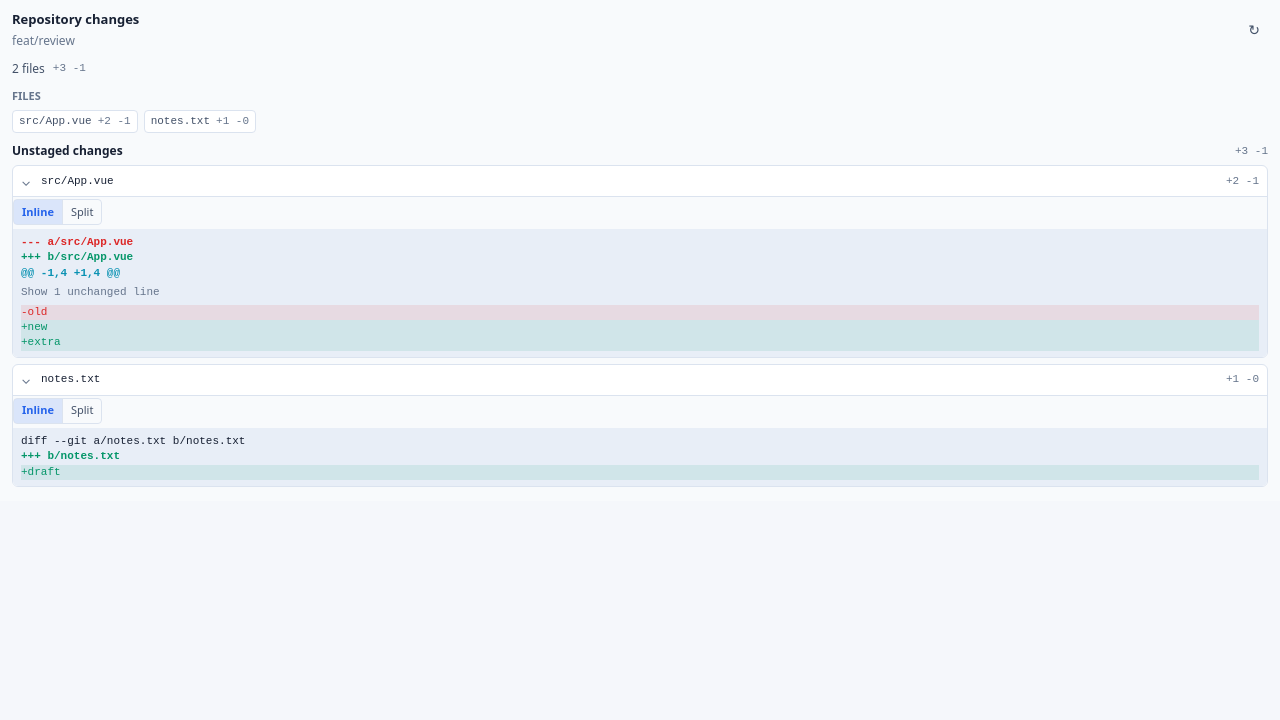
Scenario: GitReviewSidebarPanel › renders file count, line stats, collapsible file diffs, and collapsed context
The width and height of the screenshot is (1280, 720).
Expected: the element with test id "git-review-summary" shows "2 files", [12, 60, 45, 76]
Expected: the element with test id "git-review-summary" shows "+3 -1", [53, 62, 86, 74]
What coordinates should you click on to do the following:
click the 1st button with test id "diff-view-split"
I would click on:
 (82, 212)
Its box is [63, 200, 102, 224].
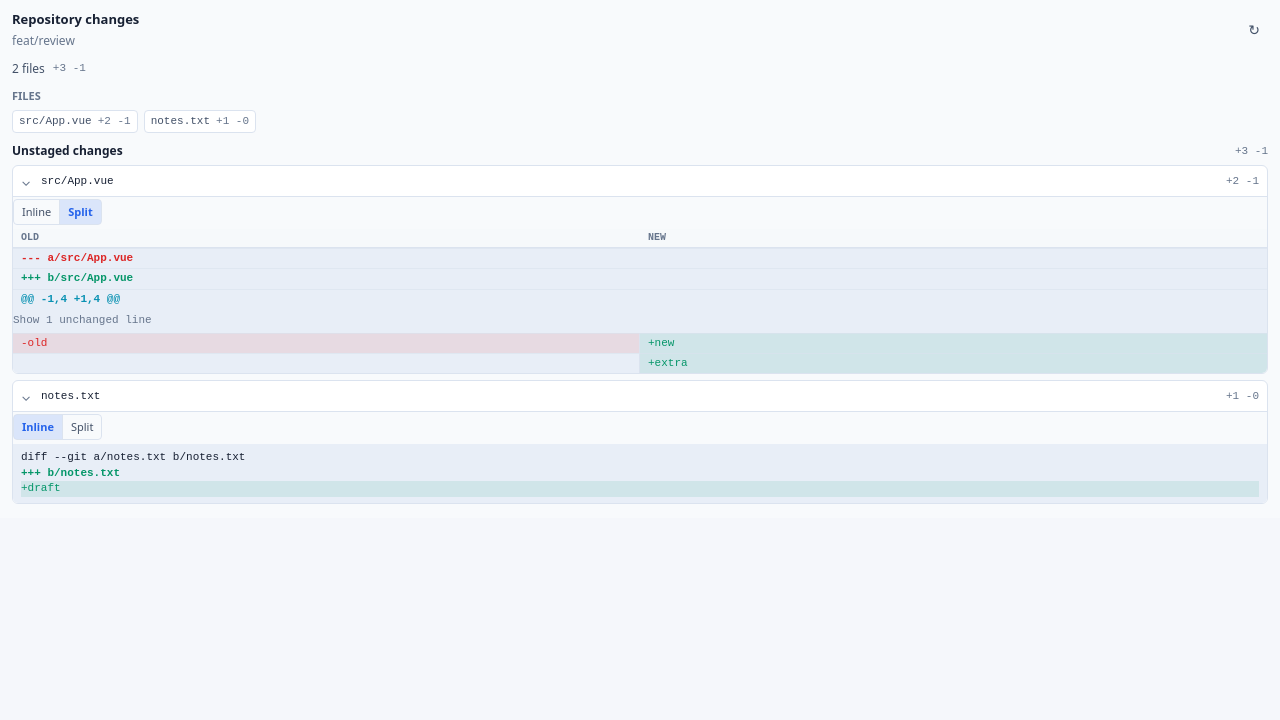
Now the 1st button with test id "diff-view-split" is pressed, box [60, 200, 101, 224]
What coordinates should you click on to do the following:
click the button with test id "diff-collapsed-context"
I would click on:
 (82, 320)
Its box is [13, 311, 1267, 331].
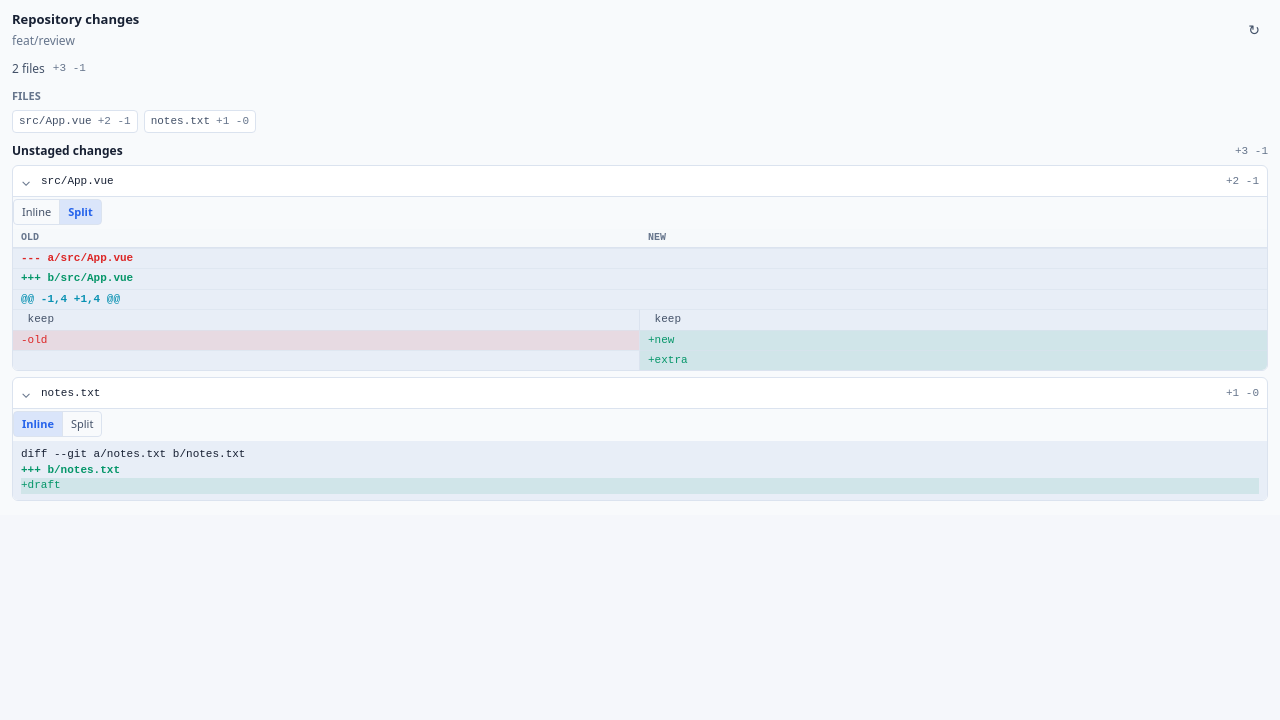
Now the text "keep" is shown, box [13, 309, 640, 330]
What coordinates should you click on to do the following:
click the button with test id "git-review-file-toggle" showing "⌄ src/App.vue +2 -1"
I would click on:
 (77, 181)
Its box is [13, 166, 1267, 196].
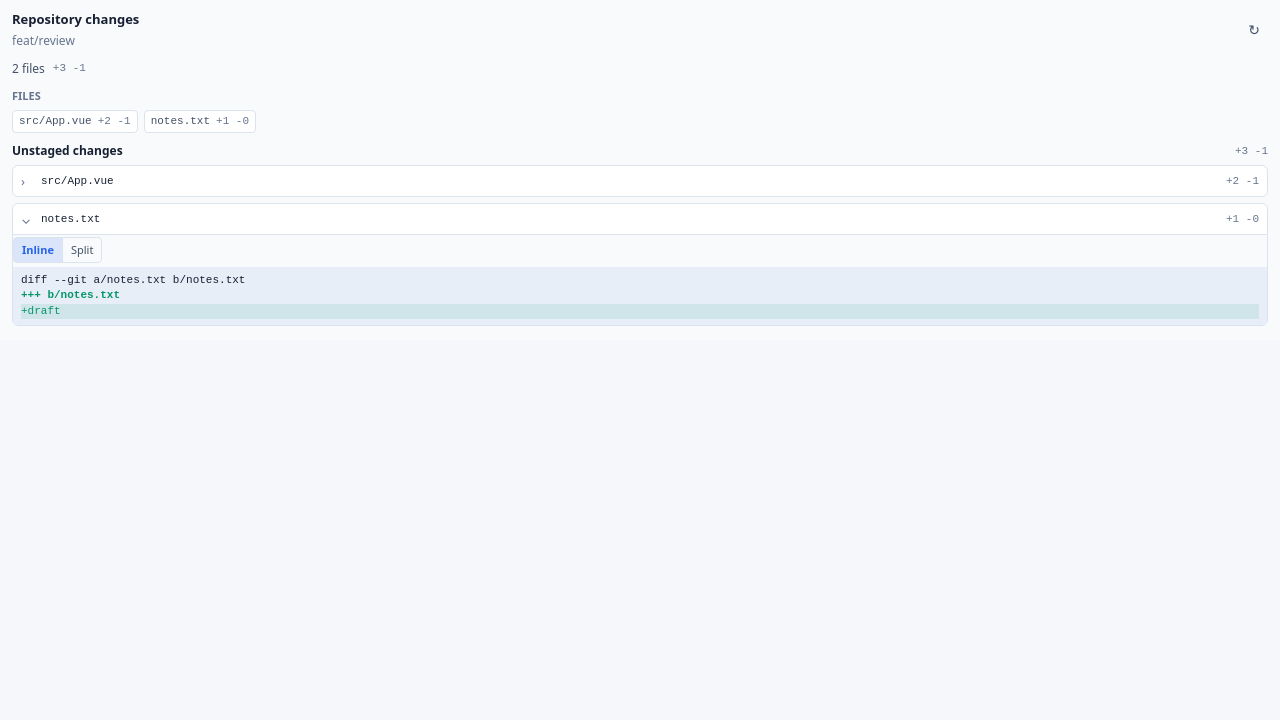
What coordinates should you click on to do the following:
click the button with test id "git-review-file-toggle" showing "› src/App.vue +2 -1"
I would click on:
 (77, 181)
Its box is [13, 166, 1267, 196].
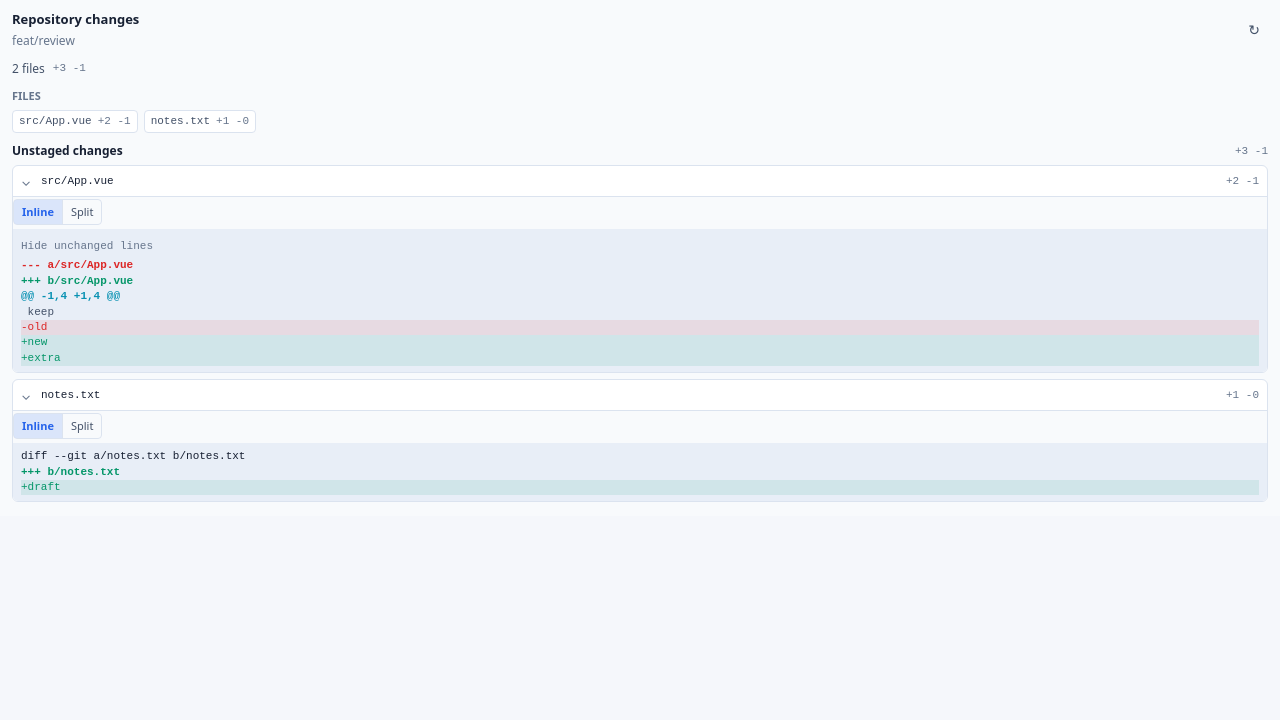
Now the 1st element with test id "git-review-file-diff" is shown, box [13, 196, 1267, 372]
